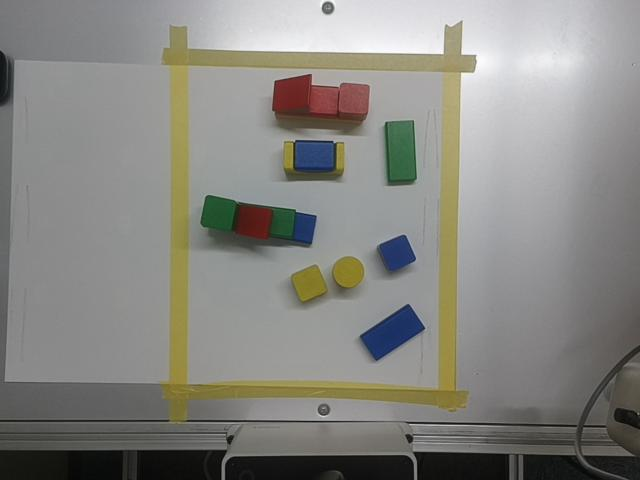blue_cube: (380, 236, 417, 272)
blue_rect: (361, 305, 425, 360)
cylinder: (333, 257, 362, 288)
green_cube: (201, 195, 237, 231)
green_rect: (386, 122, 416, 181)
half_cylinder: (295, 141, 335, 171)
red_cube: (339, 84, 369, 118)
triangle: (272, 75, 312, 114), (236, 207, 272, 239)
yellow_archrect: (284, 142, 344, 181)
yellow_cube: (291, 265, 328, 303)
